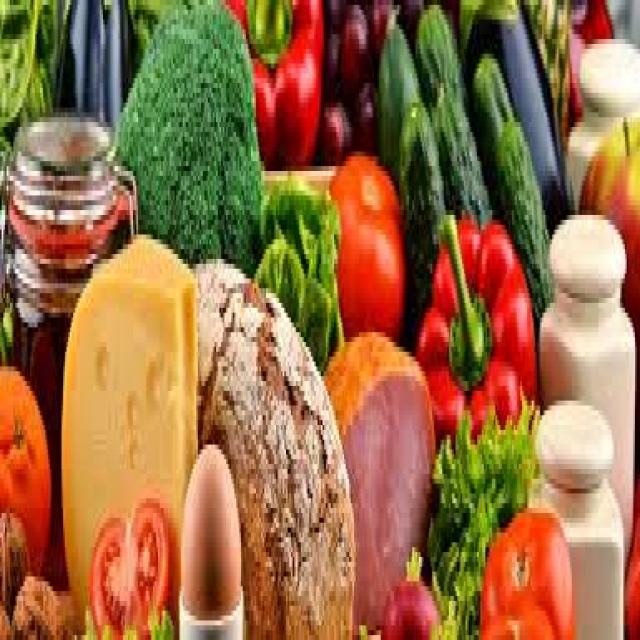organic waste: (193, 249, 351, 635), (60, 225, 194, 635), (113, 0, 259, 269), (321, 323, 435, 635), (416, 190, 537, 440), (421, 386, 535, 635), (456, 0, 574, 225), (221, 0, 321, 161), (258, 176, 339, 371), (326, 146, 402, 347), (8, 283, 65, 523), (577, 103, 638, 327), (491, 102, 554, 312), (479, 503, 570, 635), (88, 494, 166, 635), (180, 440, 240, 620), (0, 357, 47, 586), (396, 93, 446, 303), (432, 68, 490, 215), (374, 15, 419, 166), (469, 39, 510, 191), (0, 0, 55, 107), (55, 0, 103, 117), (564, 0, 610, 122), (412, 0, 462, 98), (379, 572, 437, 635), (100, 0, 128, 122), (12, 572, 58, 635), (0, 508, 28, 610), (474, 601, 552, 635), (622, 474, 638, 635), (339, 0, 366, 83), (352, 73, 376, 147), (55, 586, 85, 635), (319, 98, 344, 156), (368, 0, 392, 49), (326, 24, 339, 93), (0, 596, 10, 635), (326, 0, 341, 20)
